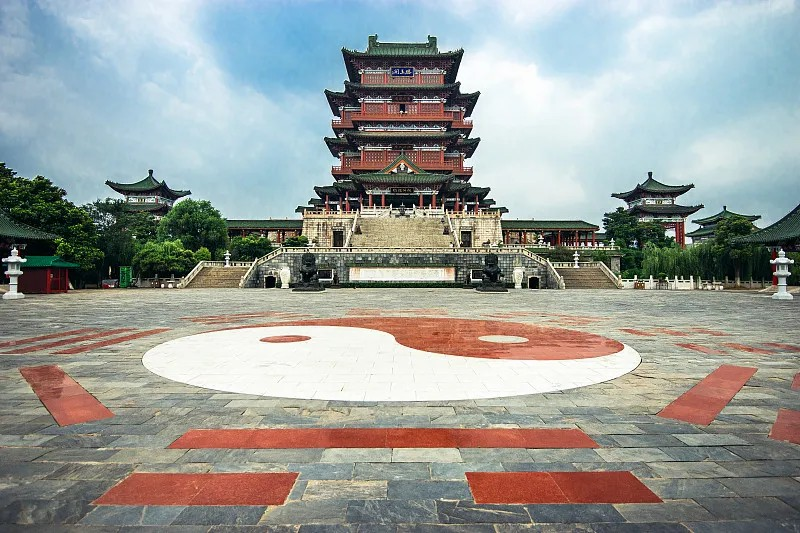Teng: (308, 34, 498, 211)
